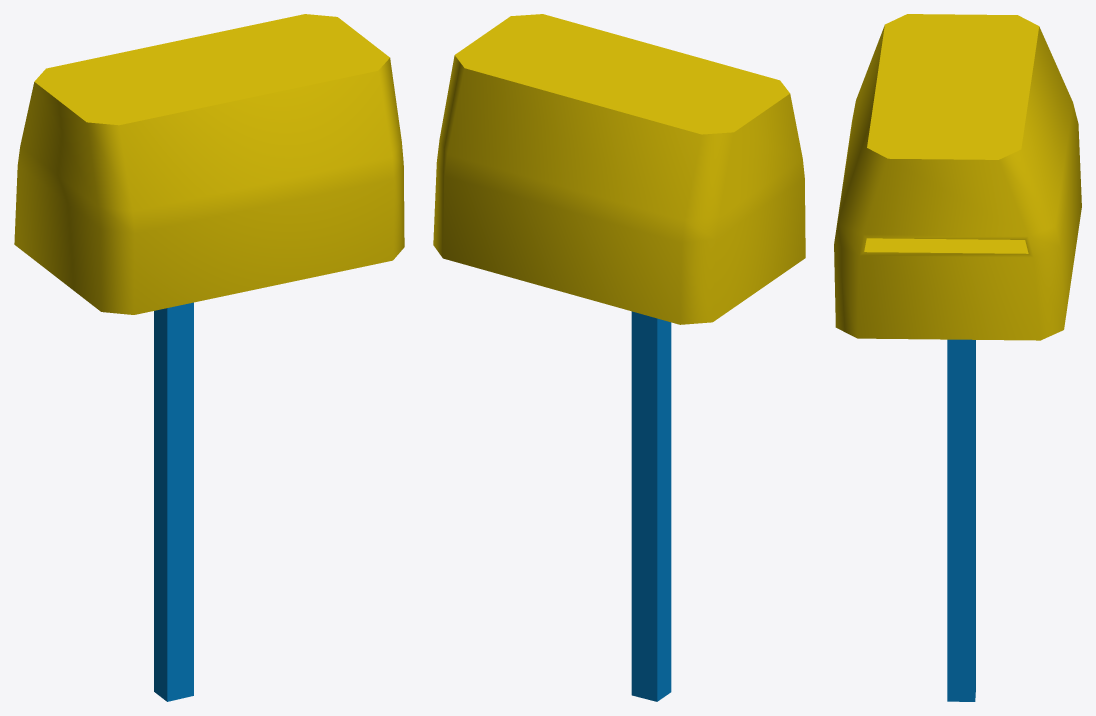
The model's file is correio.FBX.
The picture shows the model from 3 angles, left to right: view 1: azimuth 30°, elevation 25°; view 2: azimuth 150°, elevation 25°; view 3: azimuth 270°, elevation 25°; orthographic projection. The views are drawn at different scales.
Visible parts, largest first — view 1: Cidade_Correiros; view 2: Cidade_Correiros; view 3: Cidade_Correiros.
Part boxes in pixels (<box>): Cidade_Correiros: <box>14,14,404,701</box>; Cidade_Correiros: <box>433,14,805,701</box>; Cidade_Correiros: <box>834,14,1081,701</box>.
Bounding box in the file's own units: 0.7482 × 0.5344 × 1.49.
